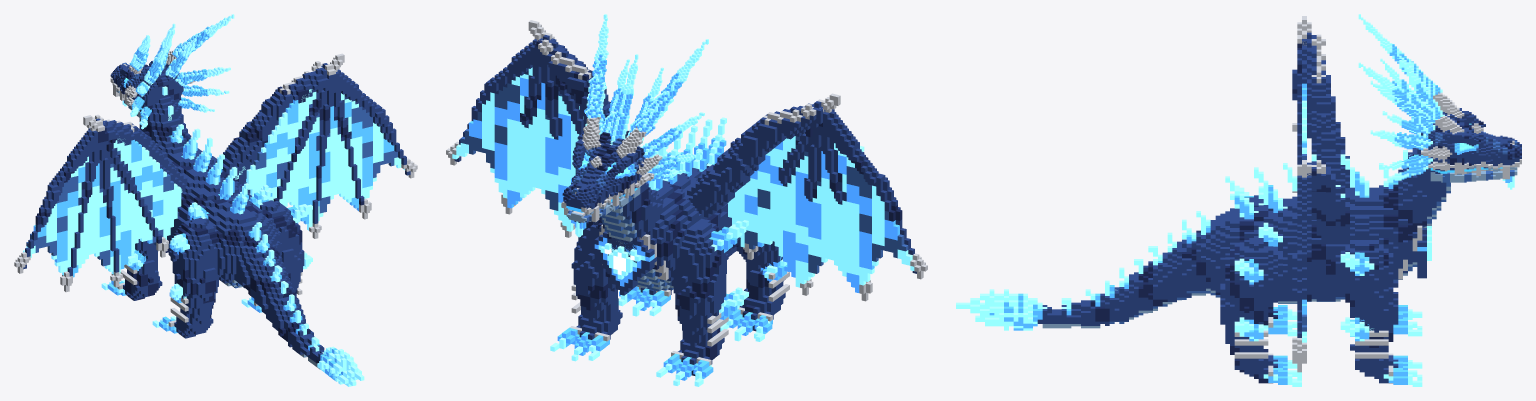
File: voxel_dragon.glb
3 renders of one model, left to right at view 1: azimuth 30°, elevation 25°; view 2: azimuth 150°, elevation 25°; view 3: azimuth 270°, elevation 25°, orthographic. The views are drawn at different scales.
Parts seen in each view (by area): view 1: WingPanelL, WingPanelR, Body, Crown, HindUpperL, WingArmR, Head, HindUpperR, Tail2, Tail1, WingForeR, Tail6 (+12 smaller); view 2: WingPanelL, WingPanelR, Body, Crown, Head, FrontUpperL, WingArmL, Core, WingForeL, FrontFootR, FrontLowerL, FrontUpperR (+11 smaller); view 3: Body, Crown, Head, HindUpperR, FrontUpperR, WingPanelR, Tail6, WingArmL, Tail2, Tail1, WingArmR, Tail3 (+16 smaller).
Boxes of the visible parts, x1,y1,x2,y2 form: WingPanelL: (14,115,181,292); WingPanelR: (246,53,417,238); Body: (166,128,281,288); Crown: (129,14,234,129); HindUpperL: (168,217,220,305); WingArmR: (216,91,292,183); Head: (110,50,195,109); HindUpperR: (260,200,312,281); Tail2: (240,249,294,312); Tail1: (231,222,284,291); WingForeR: (270,61,332,109); Tail6: (313,346,364,386); WingPanelL: (727,93,927,301); WingPanelR: (446,20,585,237); Body: (596,117,739,291); Crown: (584,14,708,182); Head: (561,117,662,222); FrontUpperL: (671,219,748,323); WingArmL: (687,120,780,217); Core: (594,231,654,295); WingForeL: (752,101,829,145); FrontFootR: (550,307,622,361); FrontLowerL: (677,287,748,346); FrontUpperR: (571,221,617,299); Body: (1201,154,1422,303); Crown: (1358,14,1444,181); Head: (1421,92,1521,179); HindUpperR: (1220,236,1287,334); FrontUpperR: (1335,240,1398,332); WingPanelR: (1292,160,1316,372); Tail6: (956,289,1061,330); WingArmL: (1307,83,1349,191); Tail2: (1138,232,1196,306); Tail1: (1167,211,1210,295); WingArmR: (1311,173,1349,241); Tail3: (1109,259,1161,323).
Bounding box in the file's own units: 22.6 × 14.55 × 23.55.
